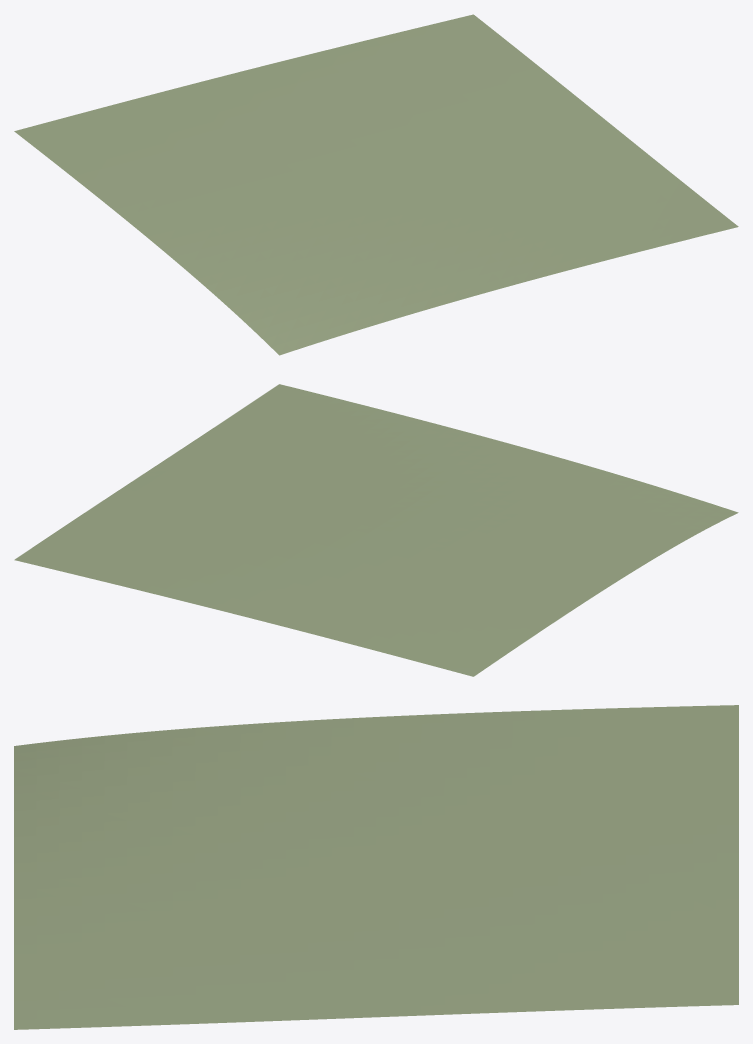
File: expanse-5-4.glb
The picture shows the model from 3 angles, top to bottom: view 1: azimuth 30°, elevation 25°; view 2: azimuth 150°, elevation 25°; view 3: azimuth 270°, elevation 25°; orthographic projection. The views are drawn at different scales.
Visible parts, largest first — view 1: expanse-5-4; view 2: expanse-5-4; view 3: expanse-5-4.
Part boxes in pixels (bbox=[...]): expanse-5-4: bbox=[14, 14, 738, 355]; expanse-5-4: bbox=[14, 384, 738, 676]; expanse-5-4: bbox=[14, 705, 738, 1029].
Size of the model in its own units: 256 by 18.62 by 256.
